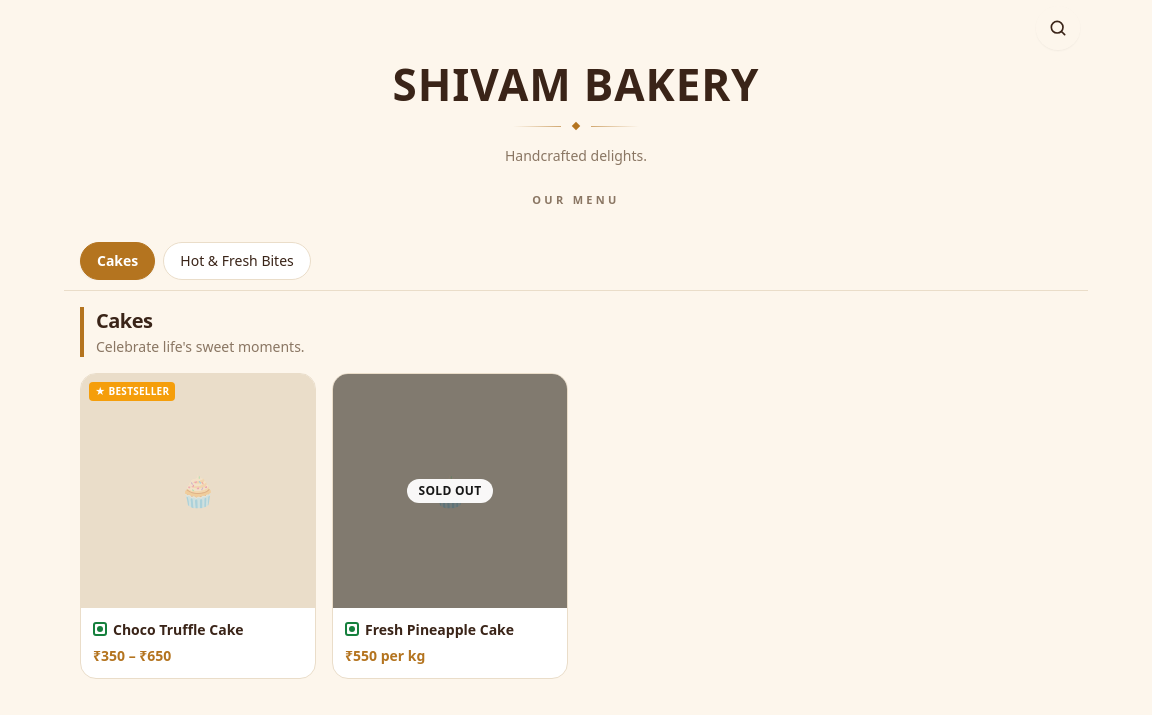
Test: search › says so when nothing matches
The image size is (1152, 715).
Click the button named "Search the menu" at {"x": 1058, "y": 28}, box [1036,6,1080,50]
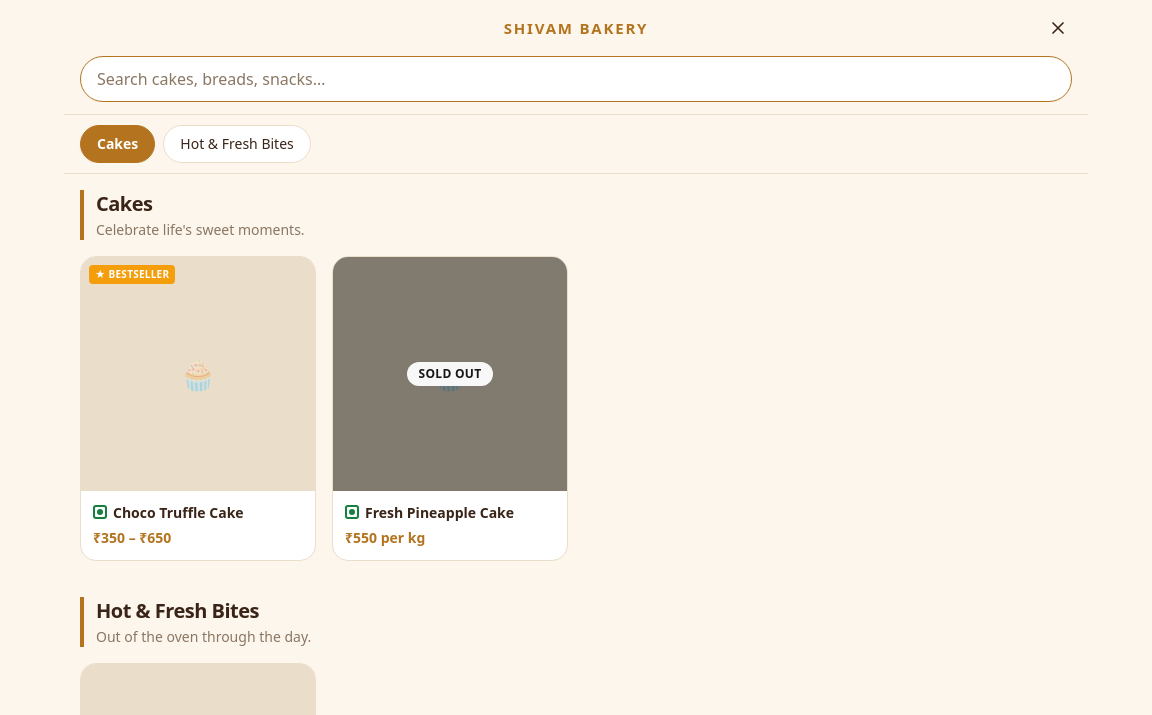
Type "sushi" into the search field with placeholder "Search cakes, breads, snacks…" at {"x": 576, "y": 79}, box [80,56,1072,102]
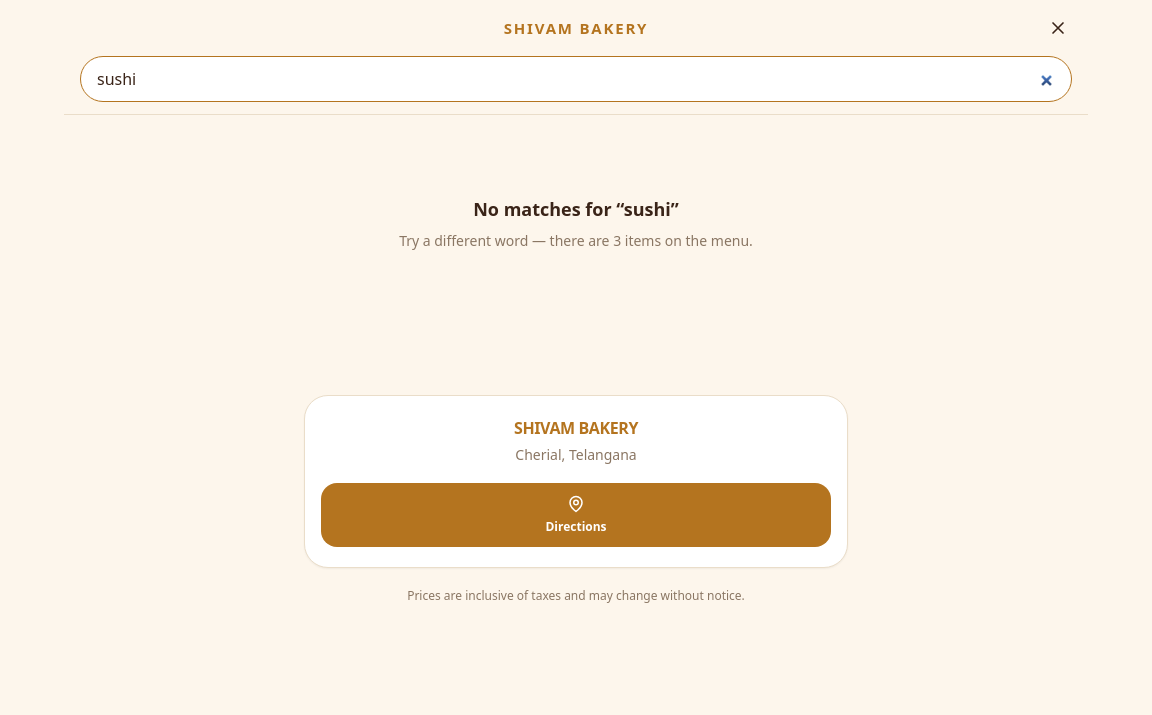
Now the text "No matches for “sushi”" is shown, box [473,197,679,221]
